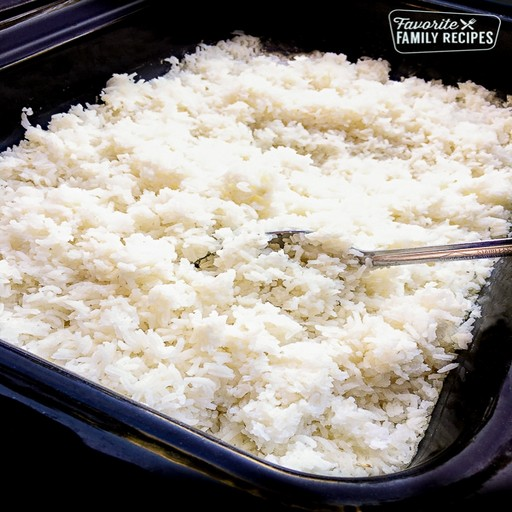rice: (67, 140, 258, 353)
